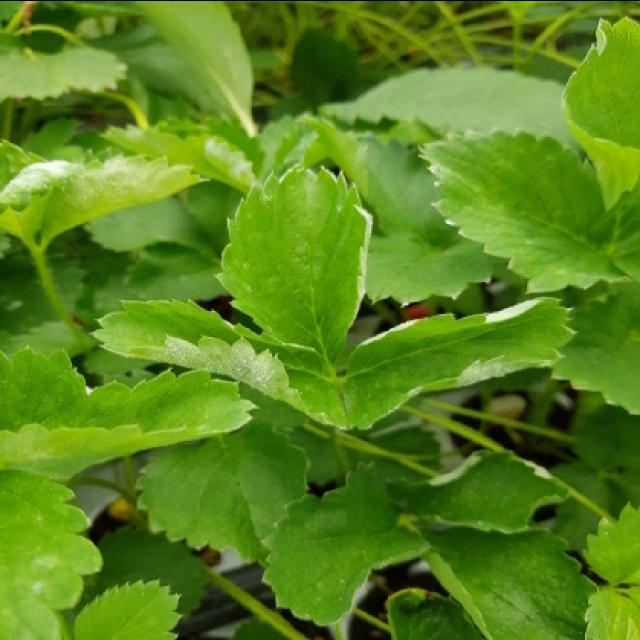Powdery Mildew Leaf: (90, 294, 353, 431), (212, 163, 375, 368), (342, 296, 578, 429), (0, 149, 214, 249), (0, 466, 104, 638)
